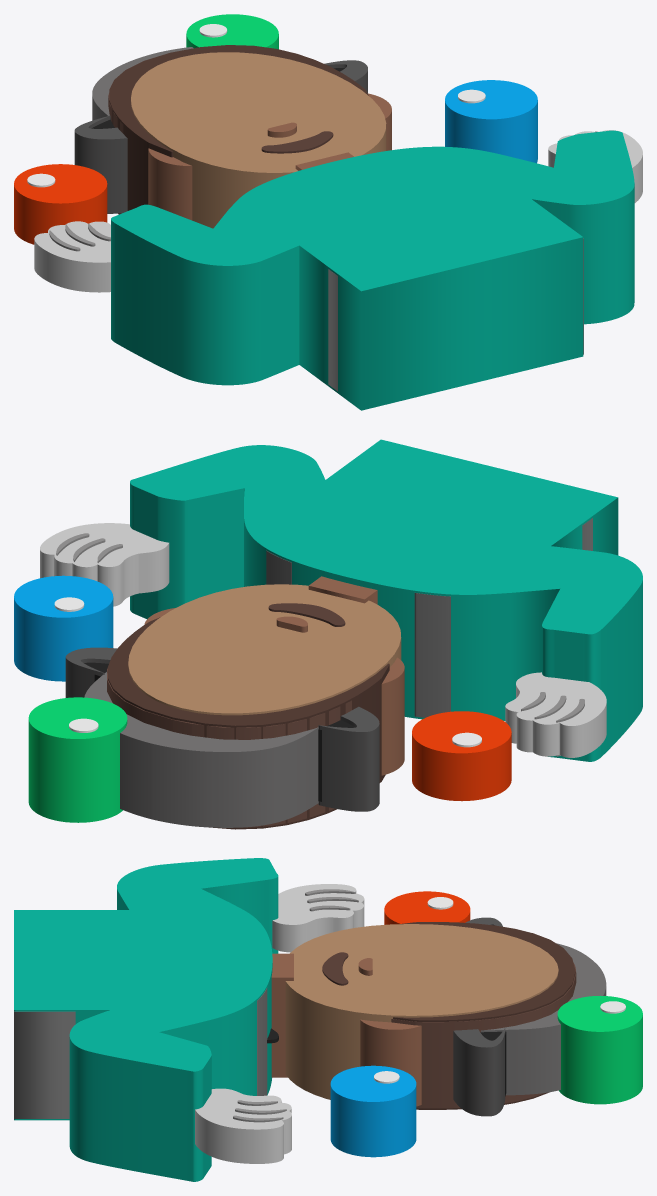
File: emoji_u1f939_1f3fd_200d_2642.glb
3 views of the same model, one above another, from view 1: azimuth 30°, elevation 25°; view 2: azimuth 150°, elevation 25°; view 3: azimuth 270°, elevation 25° (orthographic). The views are drawn at different scales.
Visible parts, largest first — view 1: emoji_u1f939_1f3fd_200d_2642; view 2: emoji_u1f939_1f3fd_200d_2642; view 3: emoji_u1f939_1f3fd_200d_2642.
Part boxes in pixels (box(x1,y1,x2,y2)): emoji_u1f939_1f3fd_200d_2642: box(14, 14, 642, 410); emoji_u1f939_1f3fd_200d_2642: box(14, 439, 642, 829); emoji_u1f939_1f3fd_200d_2642: box(14, 858, 642, 1181).
Bounding box in the file's own units: 0.031 × 0.0064 × 0.0331.
